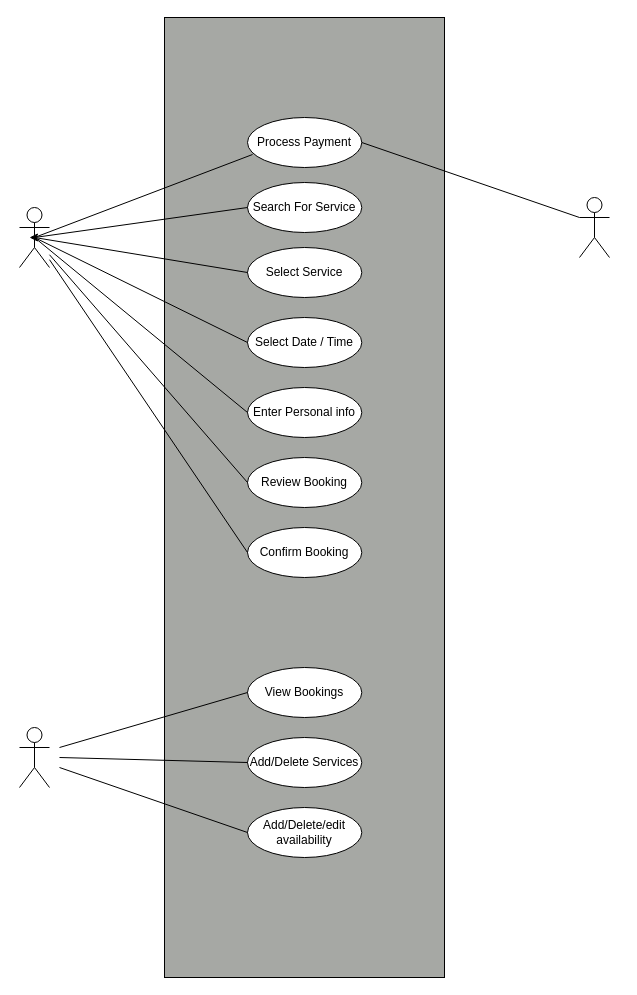
This 637x995 diagram has some shape labels left out. Each missing label, with the box of its shape:
Admin: (18, 726, 50, 788)
Payment Gateway: (578, 196, 610, 258)
User: (18, 206, 50, 268)
